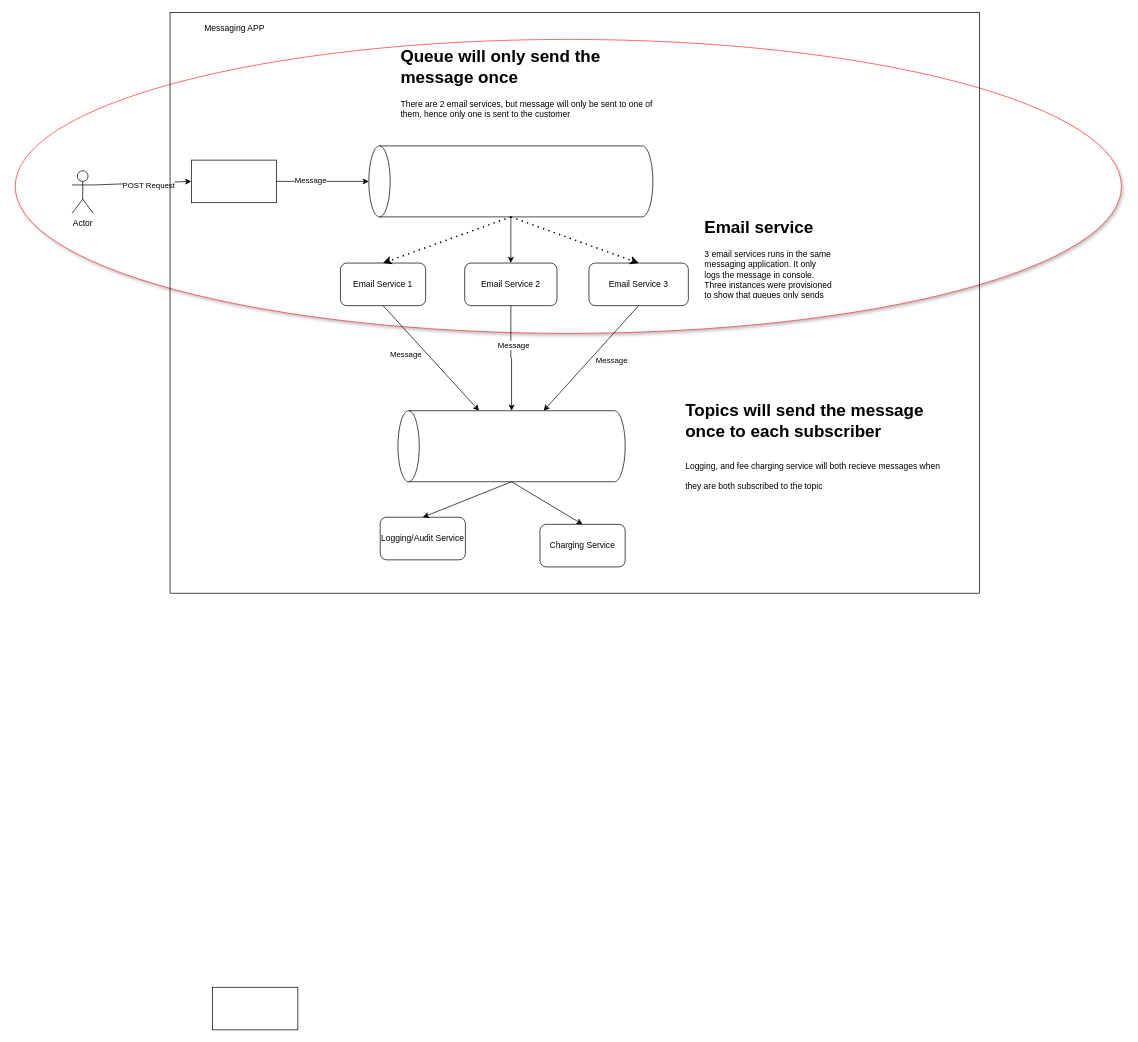
The diagram is 1138 pixels wide and 1042 high, and some of its shapes have lost their labels. Each missing label, with the centre of its shape:
"/messages/queue" goes at pixel 234 181.
"Azure Service bus (topic)" goes at pixel 511 446.
"Azure Service bus - Communication Queue)" goes at pixel 510 181.
